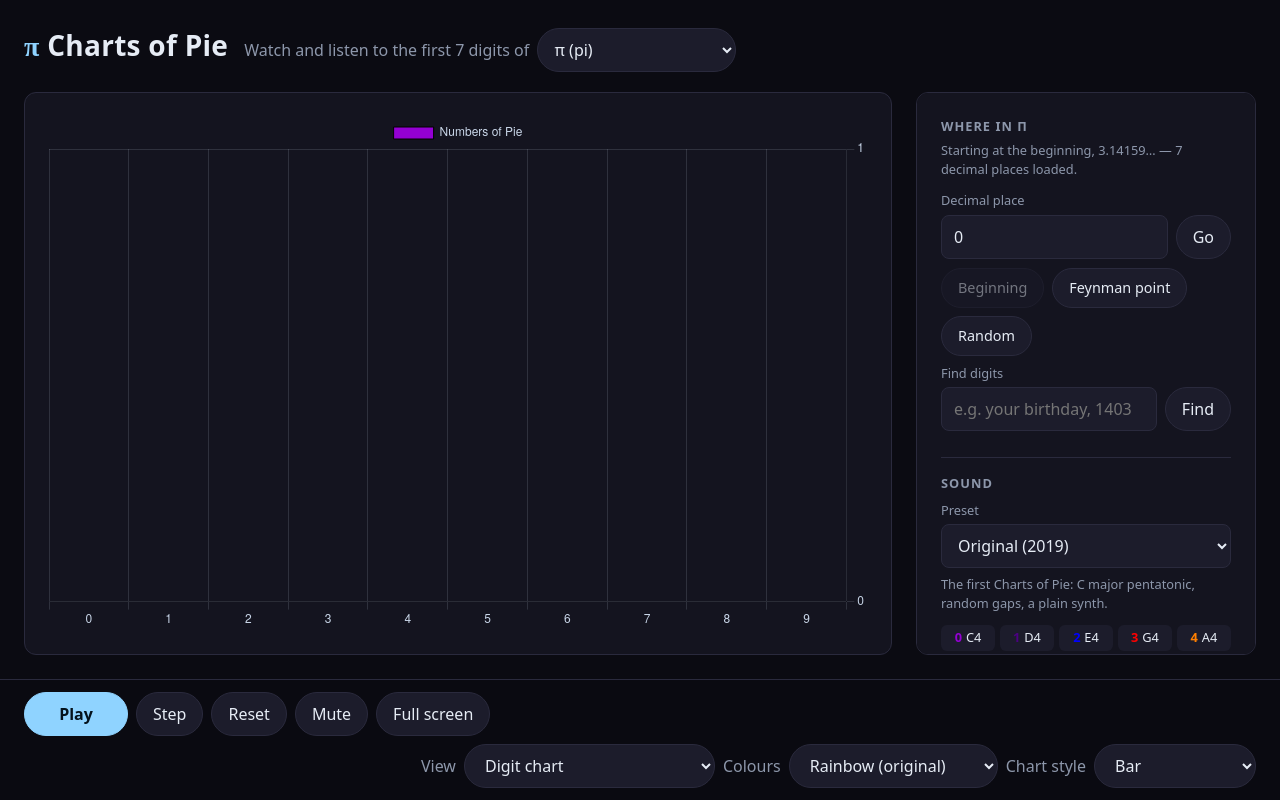
Test case: App › plays another number, with labels and the link following it, and back to π
Step 1. Click the button "Step" → [170, 714], box [136,692,203,736]
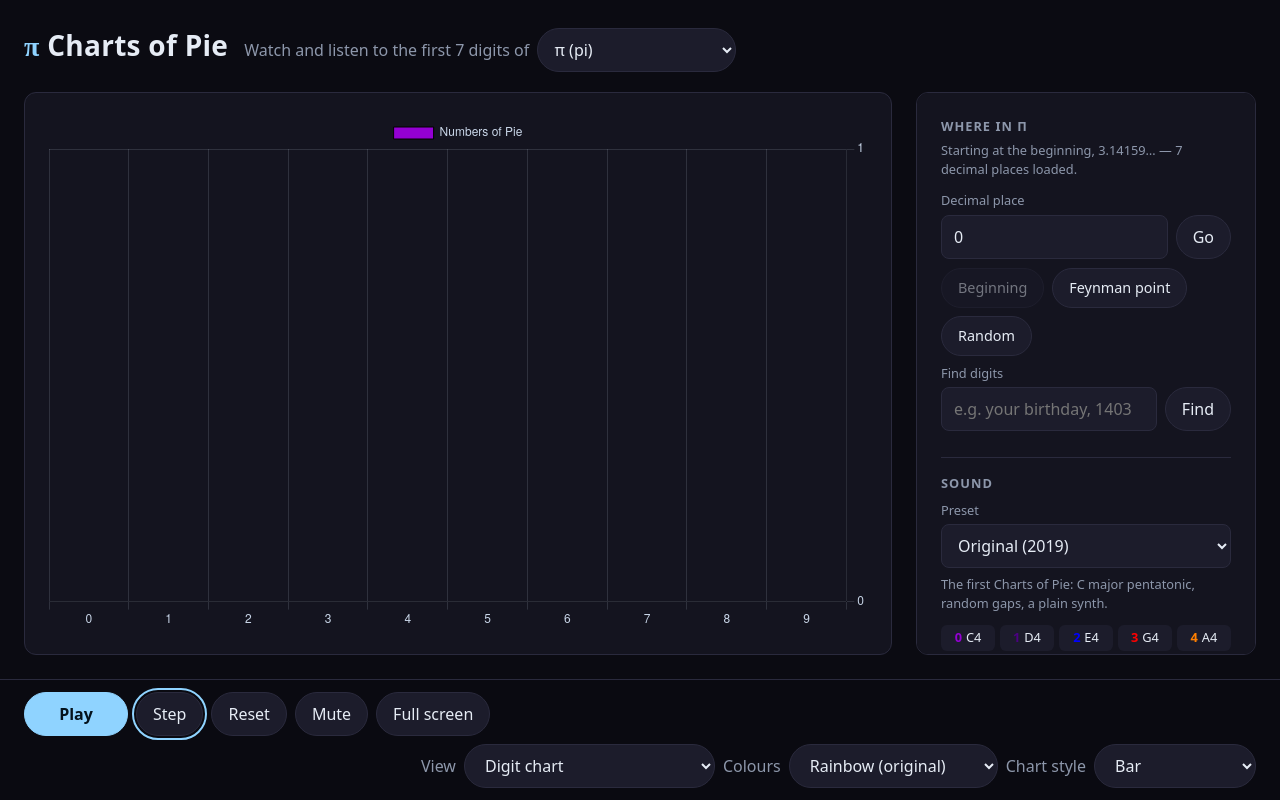
Step 2. Select "φ (golden ratio)" in the dropdown named "Number" → [637, 50], box [537,28,736,72]
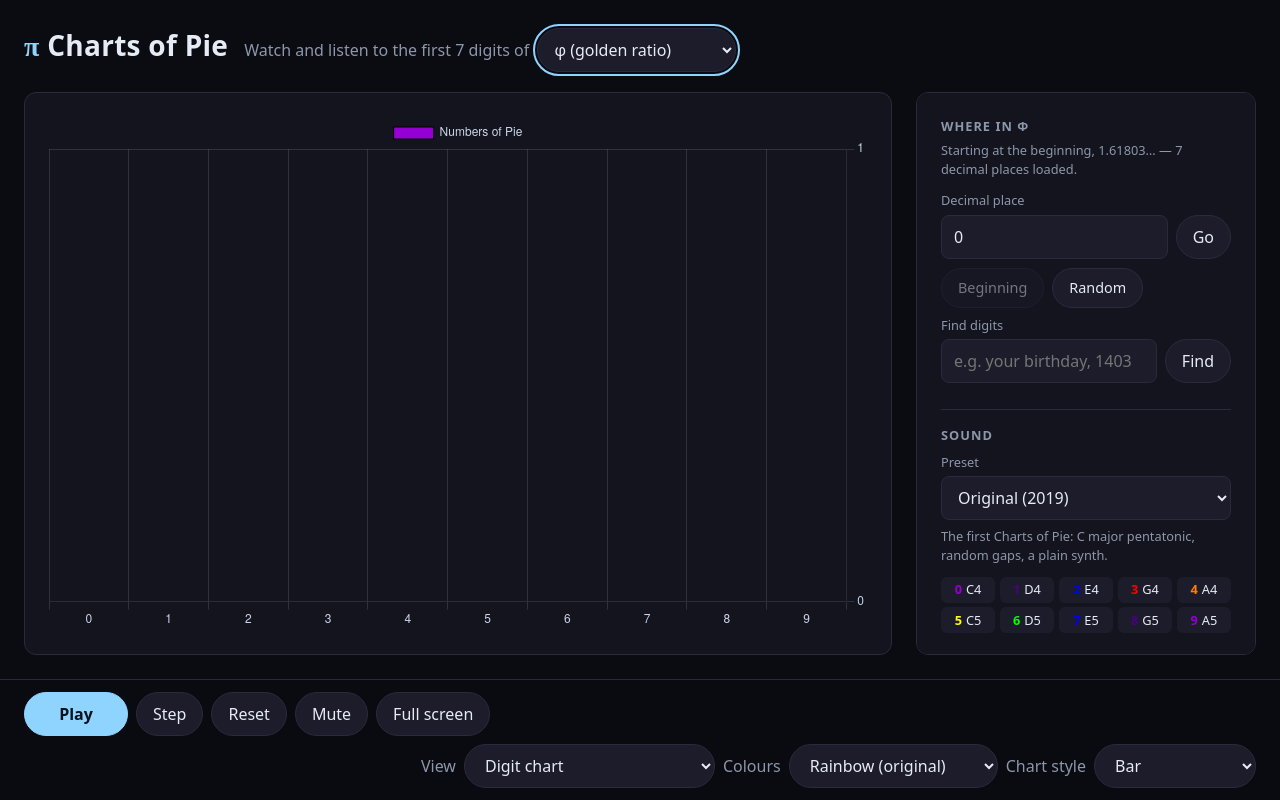
expect the heading "Where in φ" is shown: met, box [941,117,1029,135]
Step 3. Click the button "Step" → [170, 714], box [136,692,203,736]
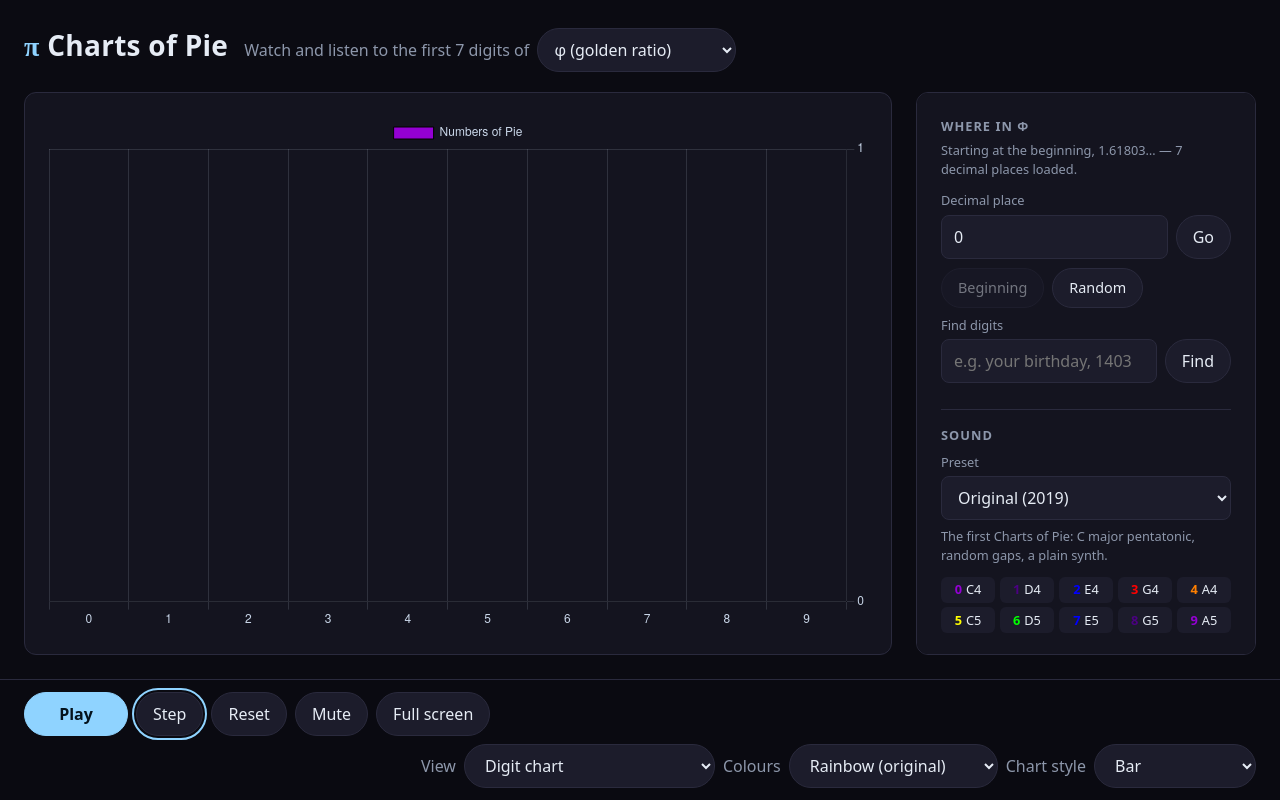
Step 4. Click the button "Step" → [170, 714], box [136,692,203,736]
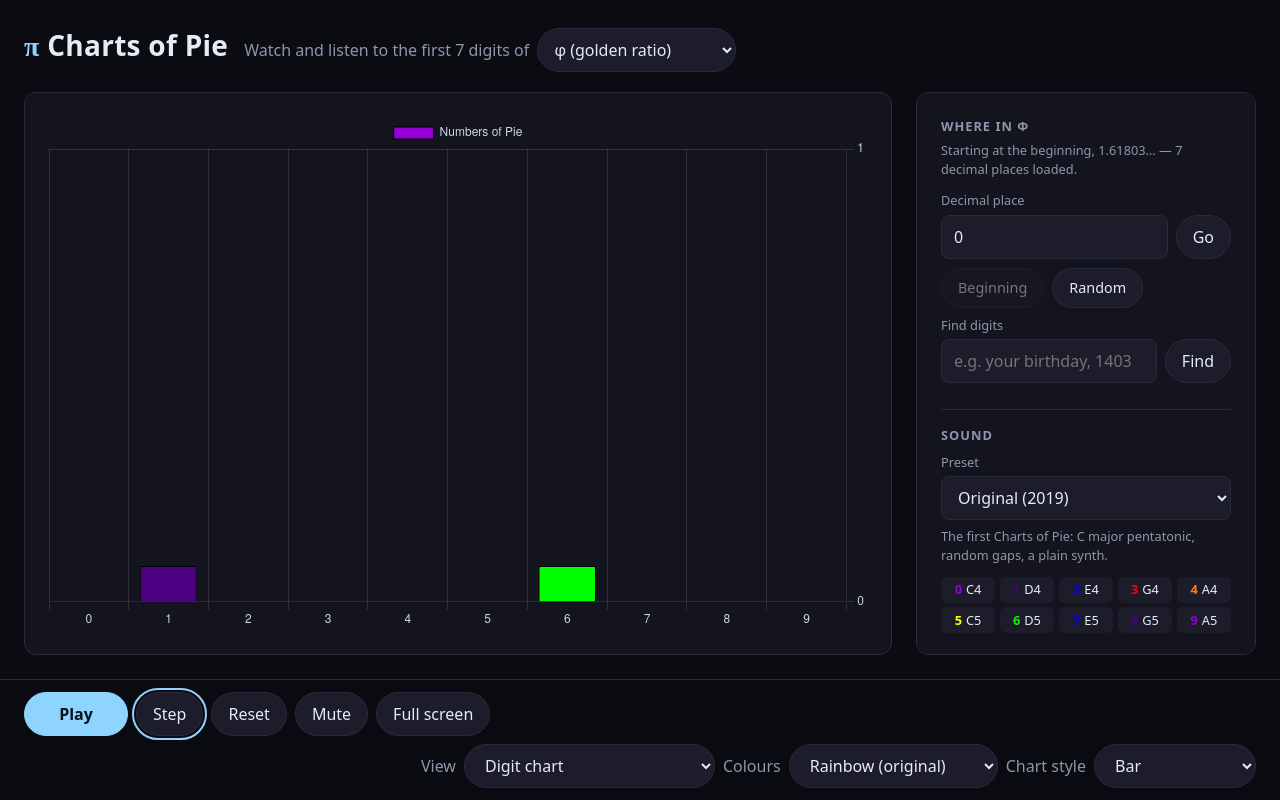
Step 5. Select "π (pi)" in the dropdown named "Number" → [637, 50], box [537,28,736,72]
(page scrolled)
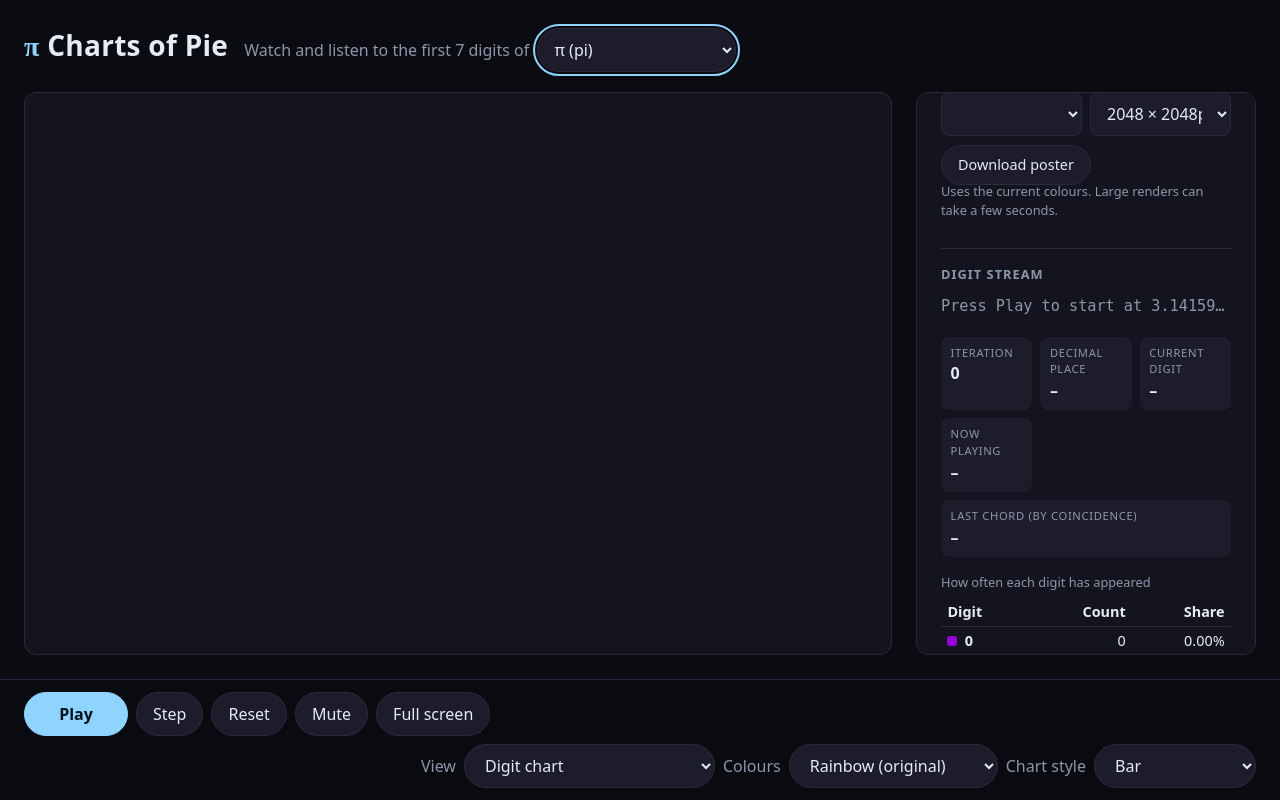
expect the button "Step" is enabled: met, box [136,692,203,736]
expect the text with test id "total-count" reads "0": met, box [951,362,960,384]
